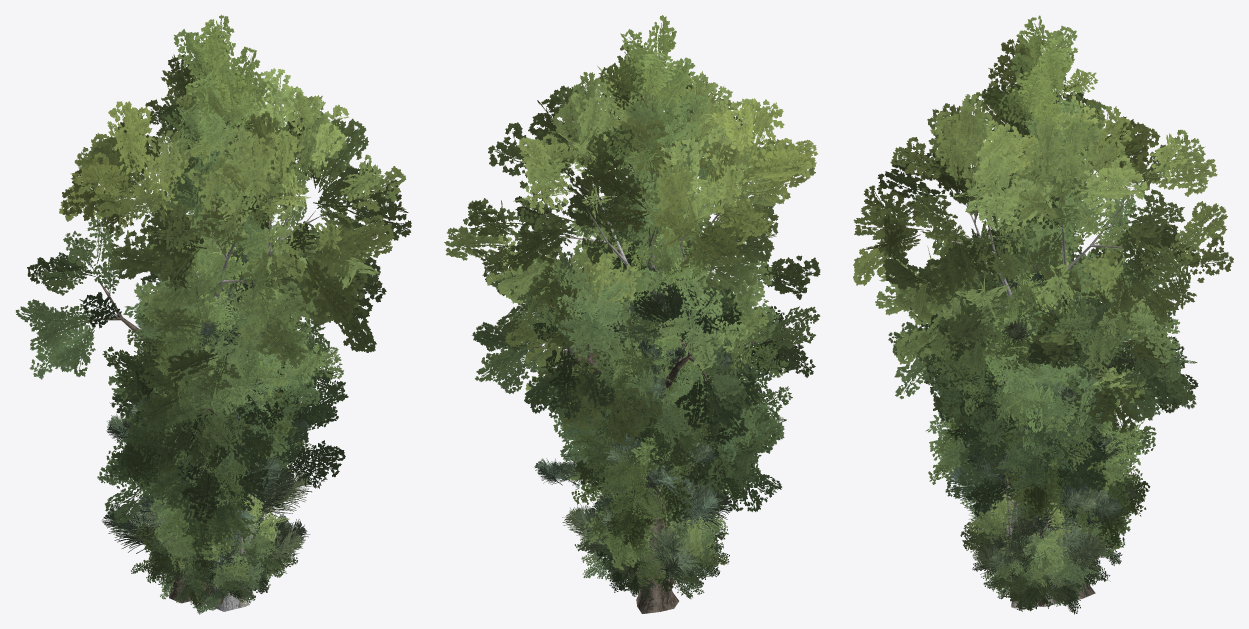
Rendered from trees.glb.
The picture shows the model from 3 angles, left to right: view 1: azimuth 30°, elevation 25°; view 2: azimuth 150°, elevation 25°; view 3: azimuth 270°, elevation 25°; orthographic projection.
Visible parts, largest first — view 1: plane, oak, hornbeam, birch, poplar, pine2, hazel, thicket, pine, bush; view 2: plane, oak, poplar, birch, hornbeam, pine2, thicket, hazel, pine, bush; view 3: plane, hornbeam, birch, oak, poplar, pine2, hazel, thicket, pine, bush.
Part boxes in pixels (<box>): plane: <box>59,54,411,611</box>; oak: <box>15,197,325,603</box>; hornbeam: <box>97,310,348,607</box>; birch: <box>107,214,313,607</box>; poplar: <box>142,14,281,602</box>; pine2: <box>102,292,312,578</box>; hazel: <box>136,494,301,607</box>; thicket: <box>131,506,287,614</box>; pine: <box>106,253,311,498</box>; bush: <box>155,533,278,604</box>; plane: <box>444,63,820,584</box>; oak: <box>472,245,820,613</box>; poplar: <box>575,15,713,589</box>; birch: <box>559,226,767,570</box>; hornbeam: <box>542,280,792,511</box>; pine2: <box>562,282,735,587</box>; thicket: <box>574,494,729,598</box>; hazel: <box>589,485,728,591</box>; pine: <box>534,252,733,509</box>; bush: <box>599,515,706,601</box>; plane: <box>853,39,1233,609</box>; hornbeam: <box>910,306,1155,608</box>; birch: <box>928,223,1156,551</box>; oak: <box>888,194,1198,601</box>; poplar: <box>981,15,1119,606</box>; pine2: <box>946,299,1142,581</box>; hazel: <box>960,488,1124,611</box>; thicket: <box>964,517,1122,614</box>; pine: <box>974,256,1123,520</box>; bush: <box>983,528,1102,611</box>.
Bounding box in the file's own units: 9.5 × 17.38 × 10.39.
Materials: 12 (12 with a texture image).
